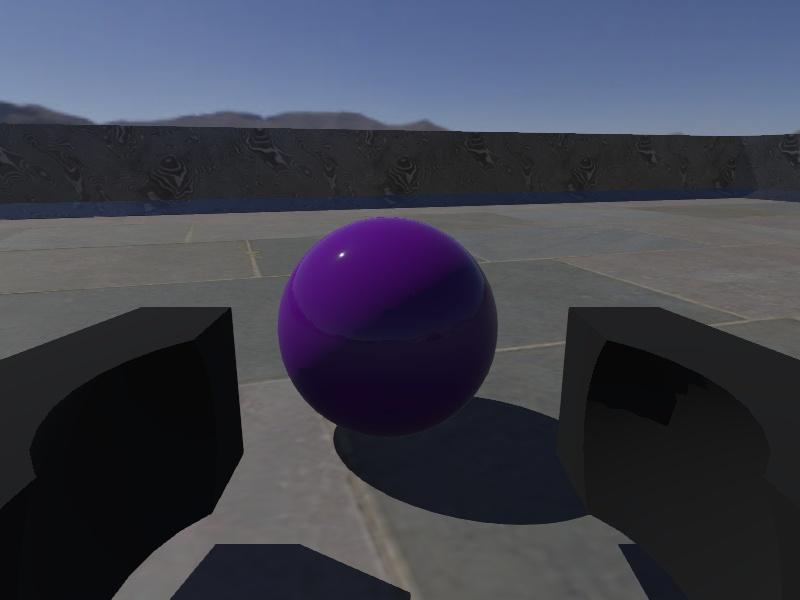violet ball: (276, 217, 498, 438)
